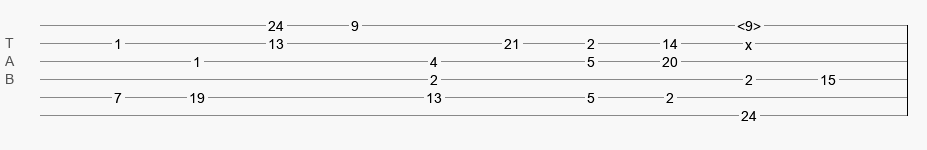1: (114, 36, 122, 46), (193, 54, 201, 64)
13: (268, 36, 284, 46), (426, 90, 442, 100)
14: (662, 36, 678, 46)
15: (820, 72, 836, 82)
19: (189, 90, 205, 100)
2: (430, 72, 438, 82), (587, 36, 595, 46), (666, 90, 674, 100), (745, 72, 753, 82)
20: (662, 54, 678, 64)
21: (504, 36, 520, 46)
24: (268, 18, 284, 28), (741, 108, 757, 118)
4: (430, 54, 438, 64)
5: (587, 54, 595, 64), (587, 90, 595, 100)
7: (114, 90, 122, 100)
9: (351, 18, 359, 28)
harmonic: (737, 18, 761, 28)
x: (745, 37, 752, 45)
